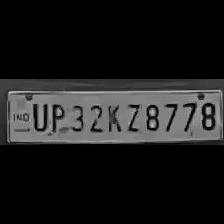2: (85, 100, 105, 134)
3: (66, 99, 86, 133)
7: (176, 97, 196, 132), (162, 98, 178, 132)
8: (141, 100, 161, 134), (197, 98, 217, 132)
K: (102, 100, 122, 134)
P: (46, 100, 66, 134)
U: (28, 98, 48, 132)
Z: (121, 100, 141, 134)
